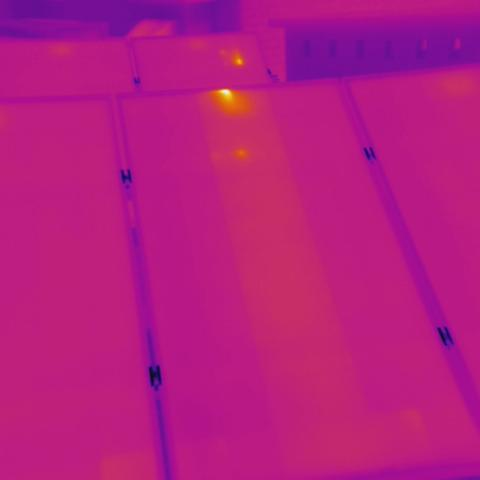fault: (216, 89, 245, 114), (217, 48, 247, 68)
